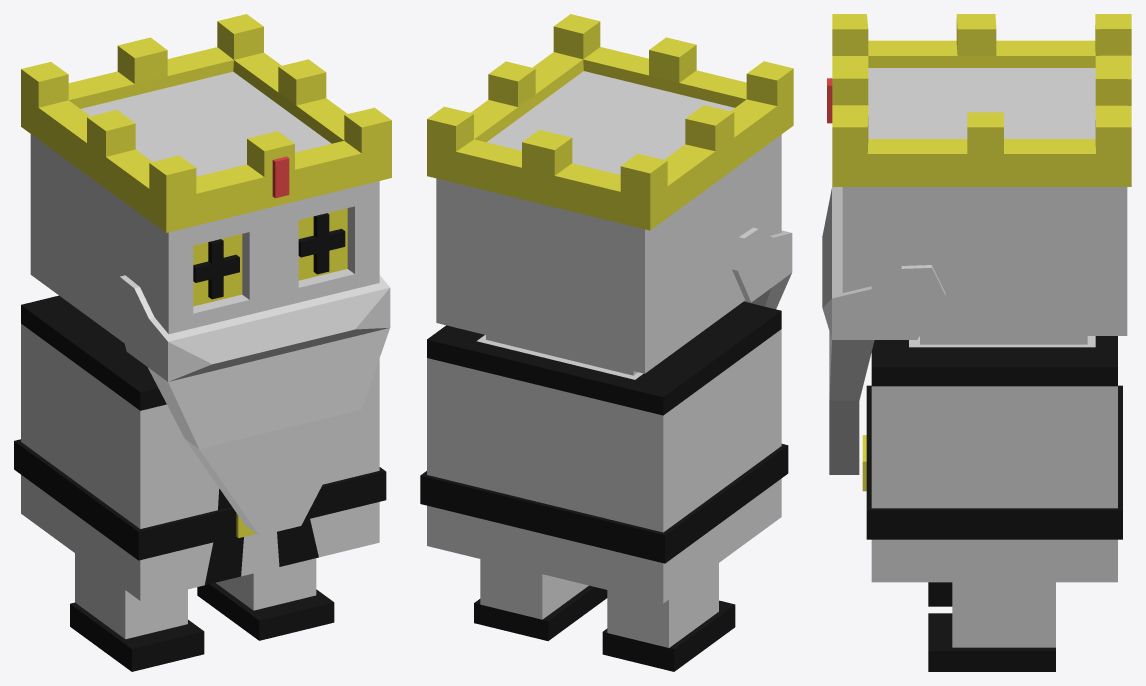
File: Player_King_Dead.fbx
3 renders of one model, left to right at view 1: azimuth 30°, elevation 25°; view 2: azimuth 150°, elevation 25°; view 3: azimuth 270°, elevation 25°, orthographic. The views are drawn at different scales.
Parts seen in each view (by area): view 1: Player_King_Dead; view 2: Player_King_Dead; view 3: Player_King_Dead.
Part boxes in pixels (x1,y1,x2,y2): Player_King_Dead: (14, 14, 391, 671); Player_King_Dead: (420, 14, 793, 671); Player_King_Dead: (822, 14, 1131, 671).
Size of the model in its own units: 79.28 by 163 by 83.17.
